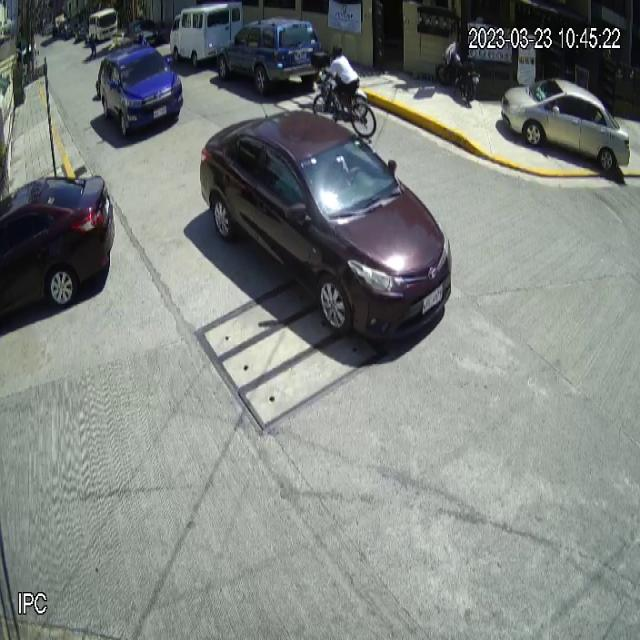Car: (199, 108, 453, 344), (0, 174, 115, 324), (500, 78, 630, 174), (218, 15, 322, 96), (96, 45, 184, 134)
Van: (170, 1, 245, 67)
